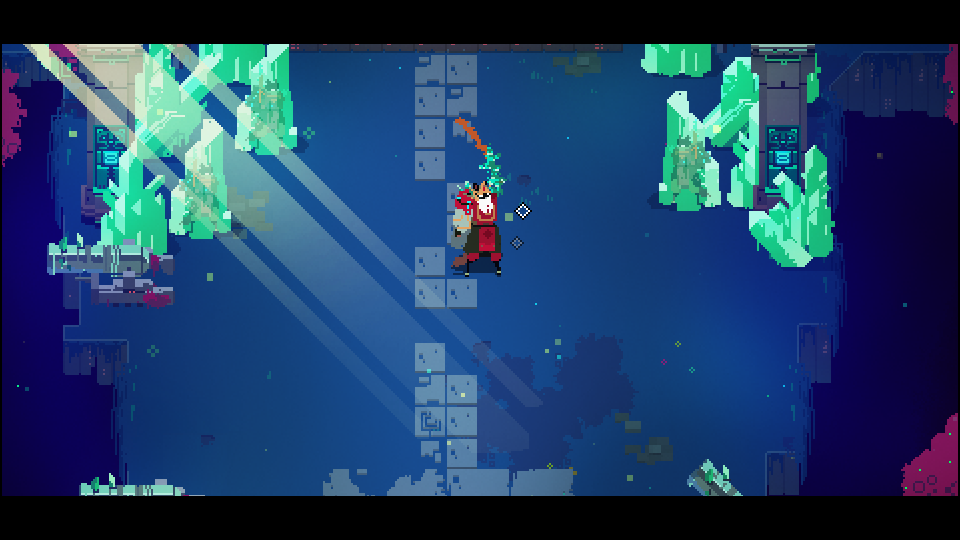hanged_man: (444, 138, 513, 275)
